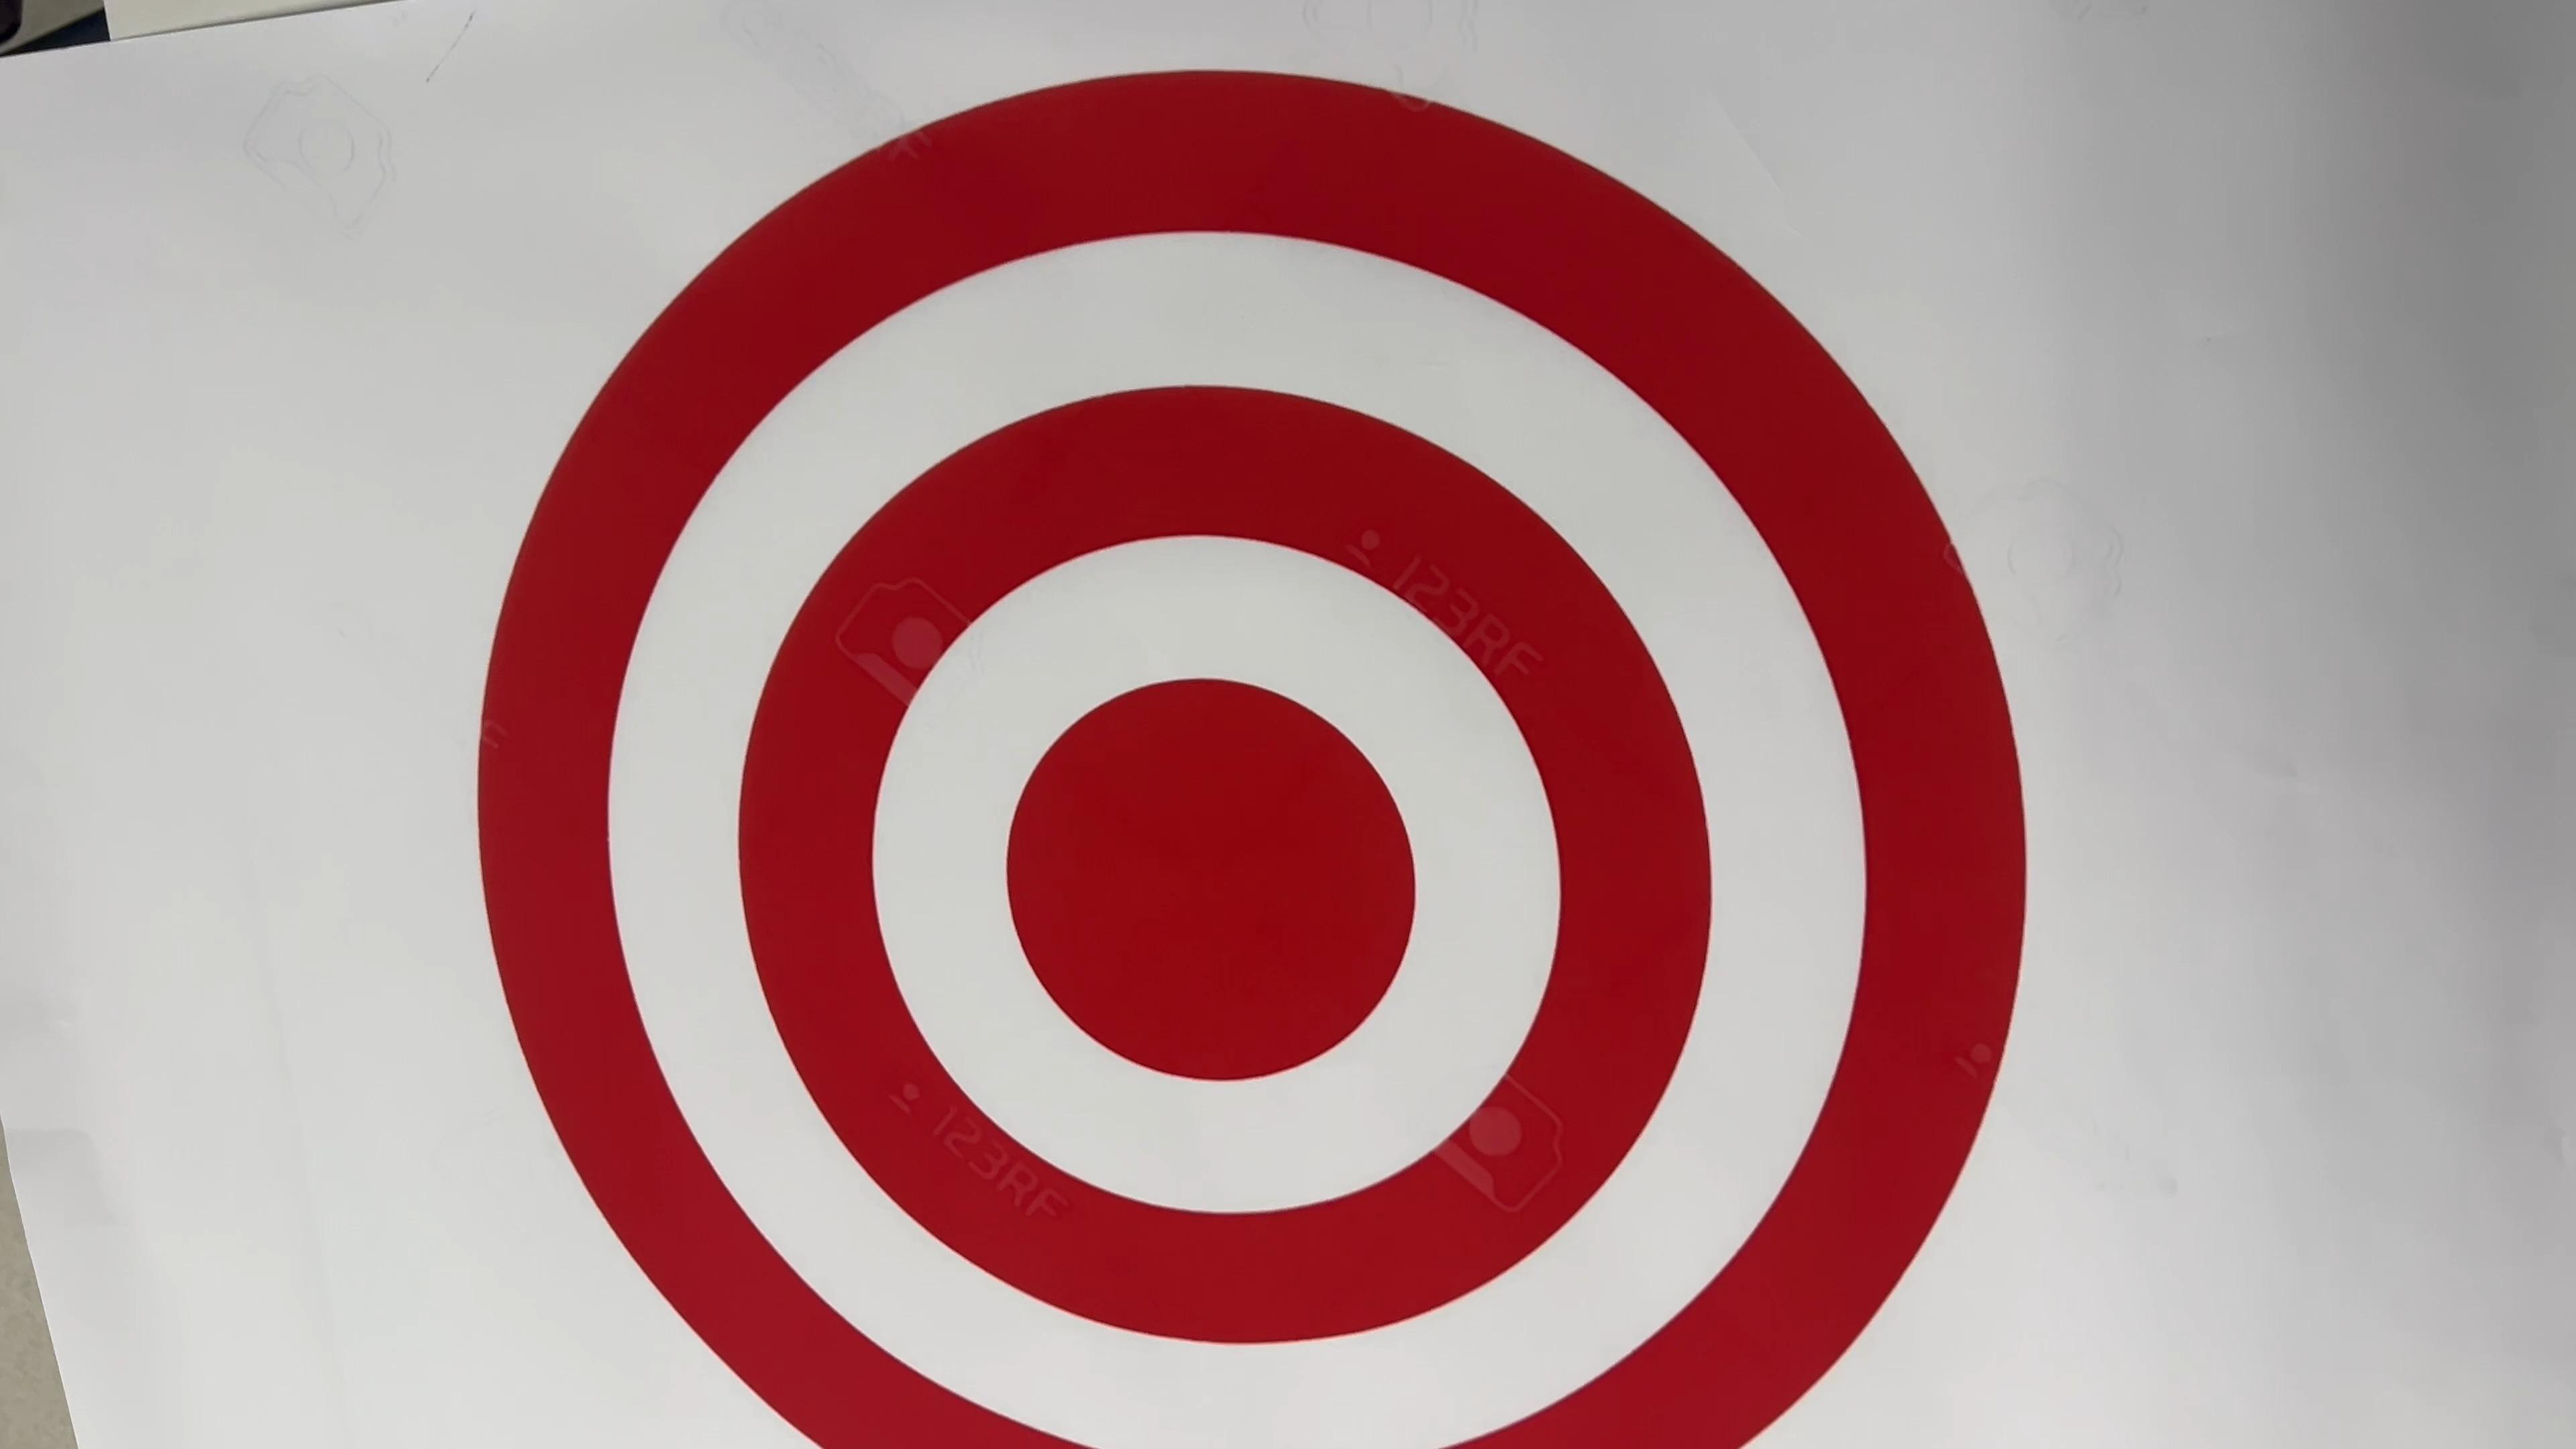target_red: (421, 25, 2054, 1449)
